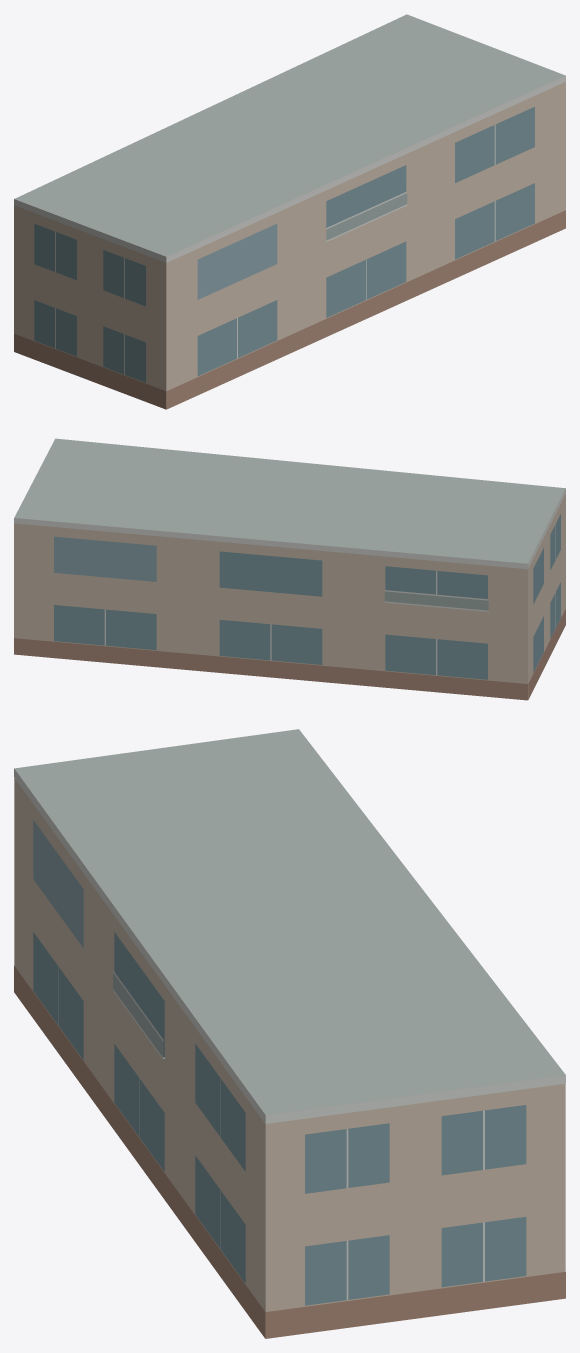
The model's file is survey-upis-32699607.glb.
3 views of the same model, one above another, from view 1: azimuth 30°, elevation 25°; view 2: azimuth 150°, elevation 25°; view 3: azimuth 270°, elevation 25° (orthographic). The views are drawn at different scales.
Visible parts, largest first — view 1: survey-upis-32699607.tmp; view 2: survey-upis-32699607.tmp; view 3: survey-upis-32699607.tmp.
Part boxes in pixels (bbox=[...]): survey-upis-32699607.tmp: bbox=[14, 14, 565, 409]; survey-upis-32699607.tmp: bbox=[14, 438, 565, 700]; survey-upis-32699607.tmp: bbox=[14, 729, 565, 1338].
Size of the model in its own units: 22.58 by 6.1 by 13.64.
